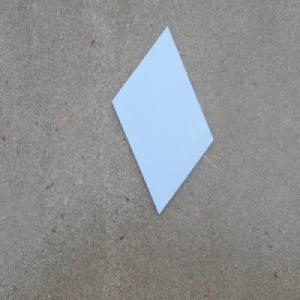PaintChip: (111, 24, 214, 213)
